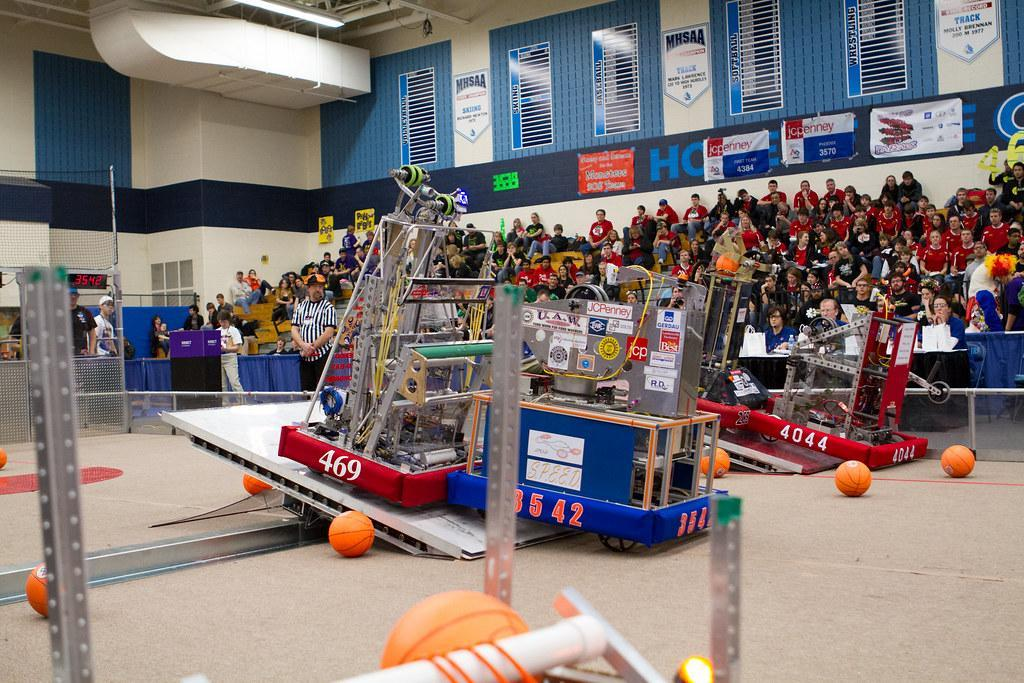robot: (447, 241, 735, 557), (279, 159, 506, 512), (753, 270, 950, 470), (667, 241, 770, 452)
